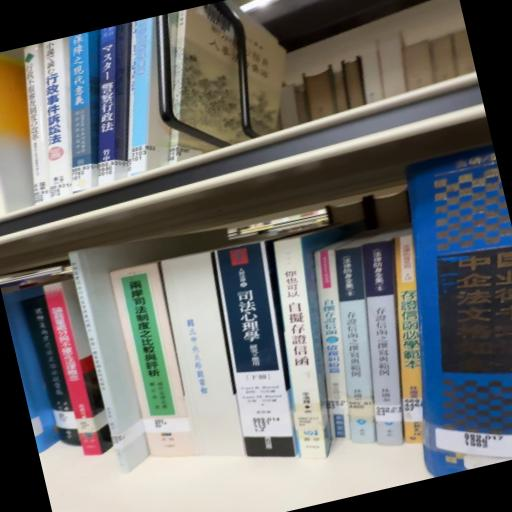backward: (159, 252, 264, 468)
book: (201, 241, 316, 475), (334, 237, 438, 453)
